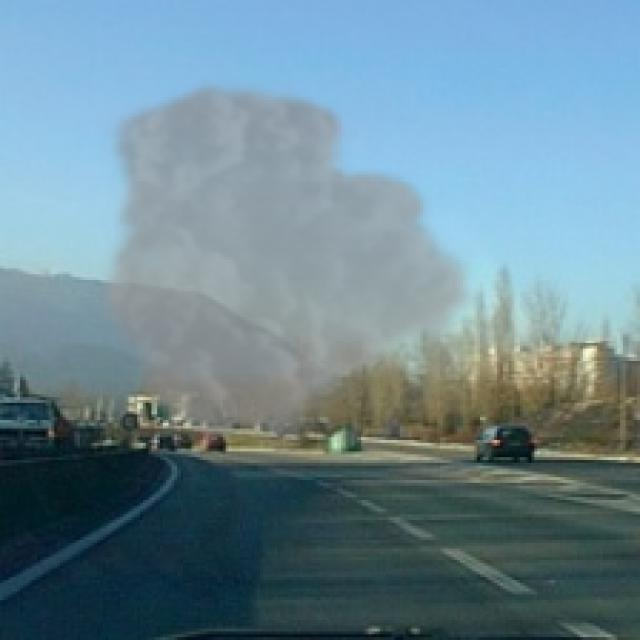smoke: (97, 77, 483, 452)
